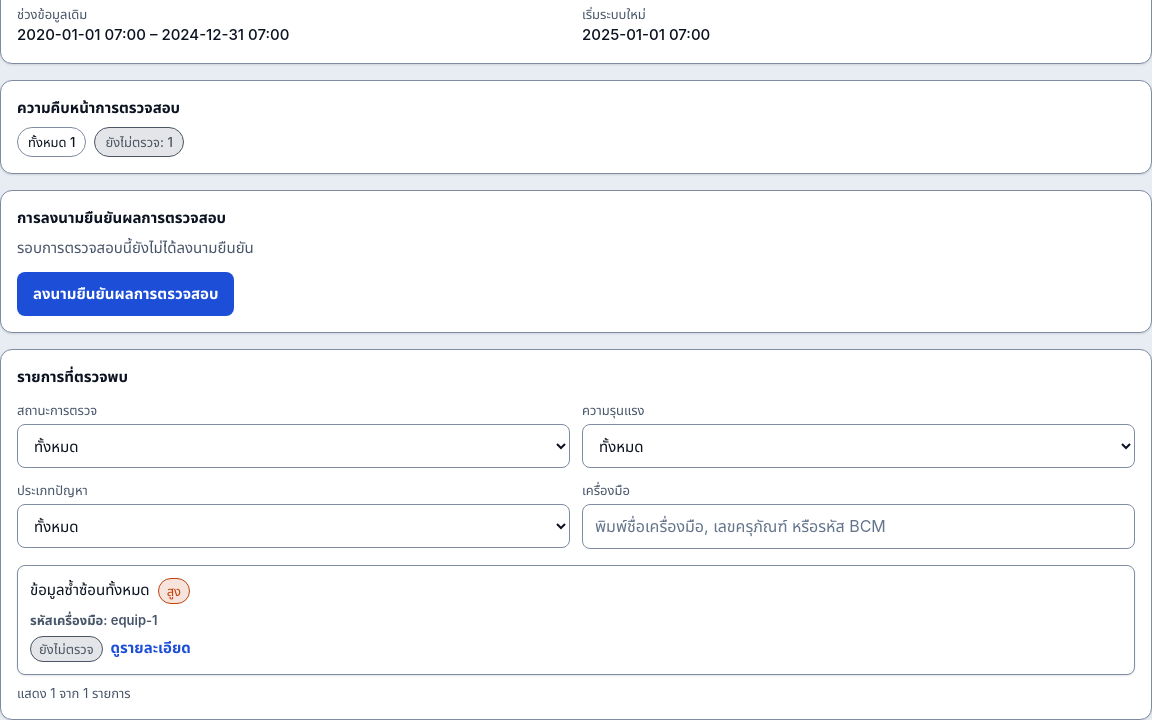
Test case: ReconciliationRunDetailPage -- disposition › submits the finding's exact currently-loaded version, refetches on success
(page scrolled)
Click the button "ข้อมูลซ้ำซ้อนทั้งหมด" at (90,590), box [17,565,1135,675]
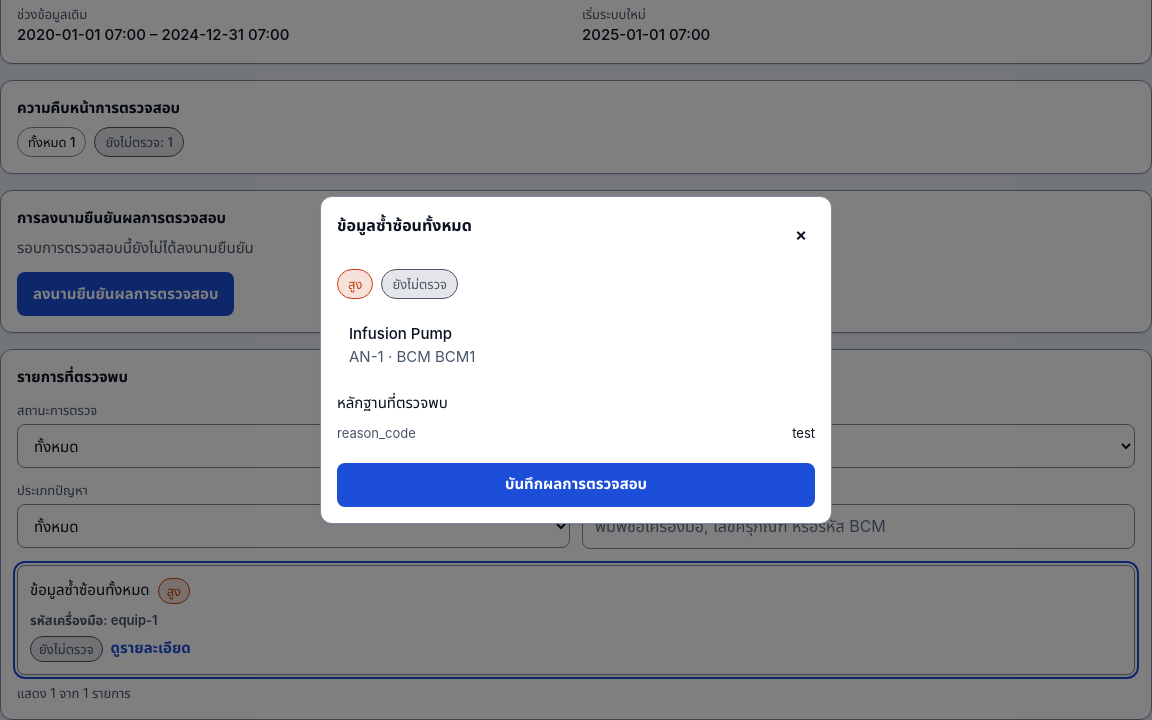
Click the button "บันทึกผลการตรวจสอบ" at (576,485), box [337,463,815,507]
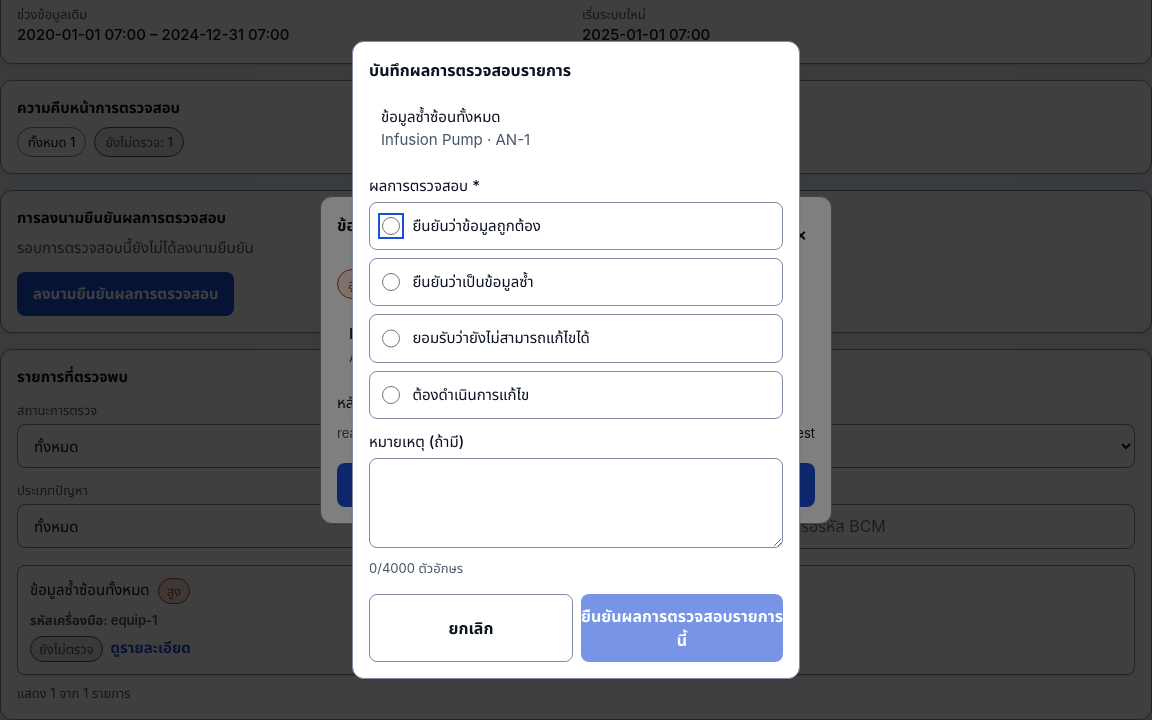
Click the radio button labelled "ยืนยันว่าข้อมูลถูกต้อง" at (391,226), box [382,217,400,235]
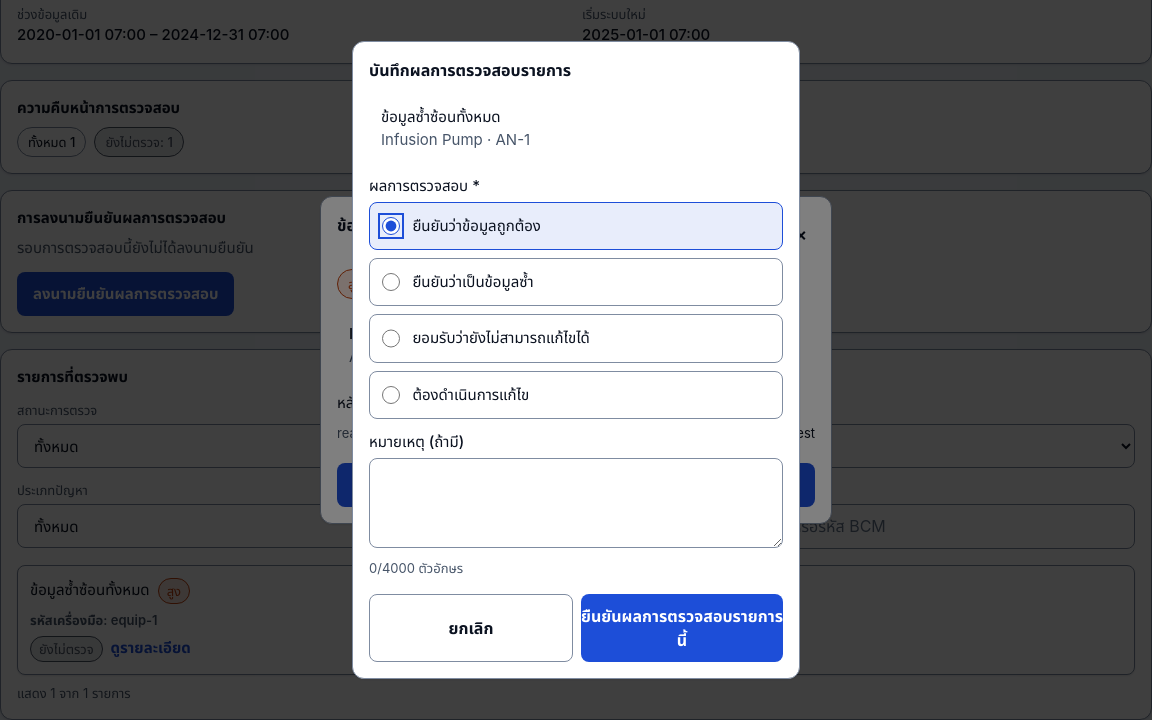
Click the button "ยืนยันผลการตรวจสอบรายการนี้" at (682,628), box [581,594,783,662]
(page scrolled)
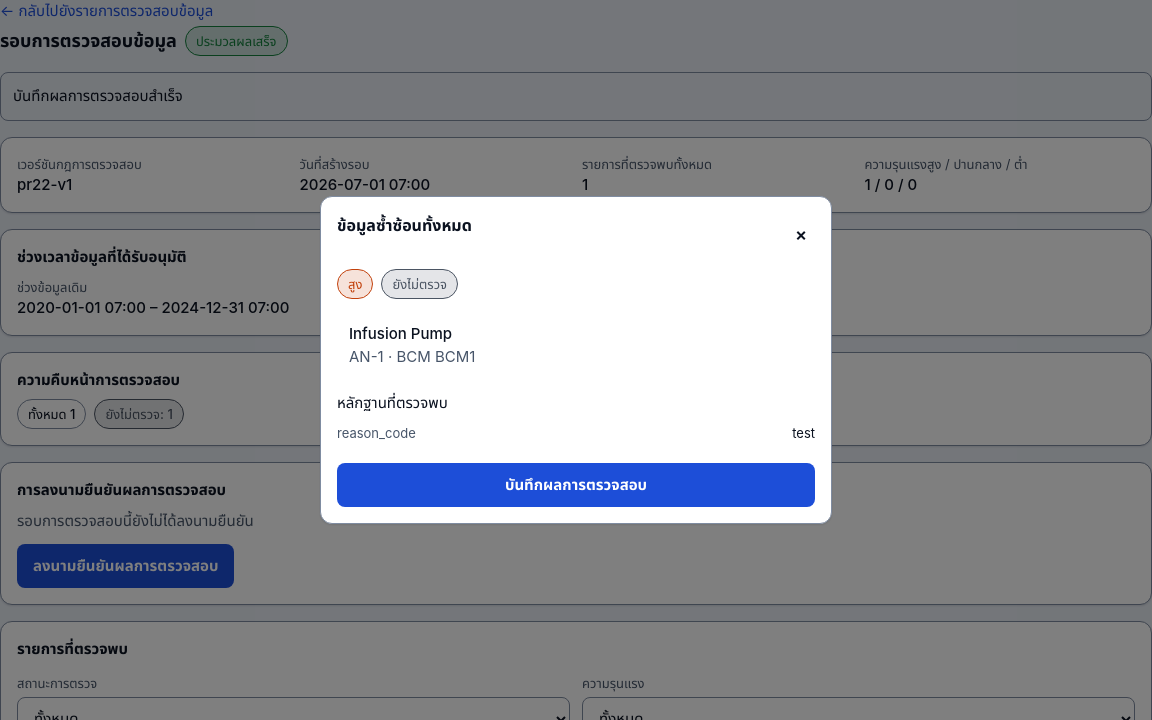
expect the text "บันทึกผลการตรวจสอบสำเร็จ" is shown: met, box [0,72,1151,121]
